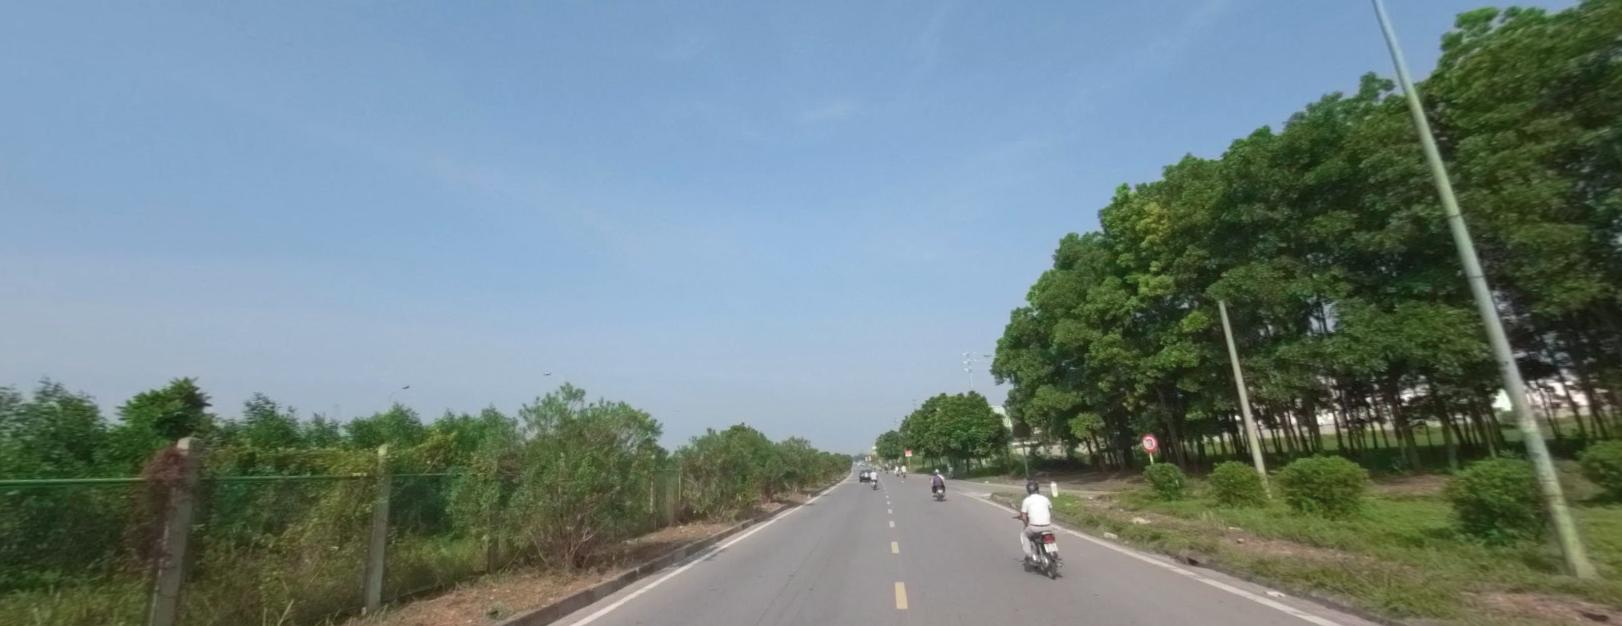Cam re: (1138, 433, 1159, 448)
